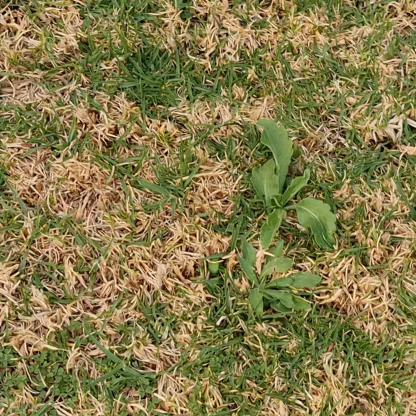Weeds: (252, 118, 339, 250), (236, 235, 322, 317)
